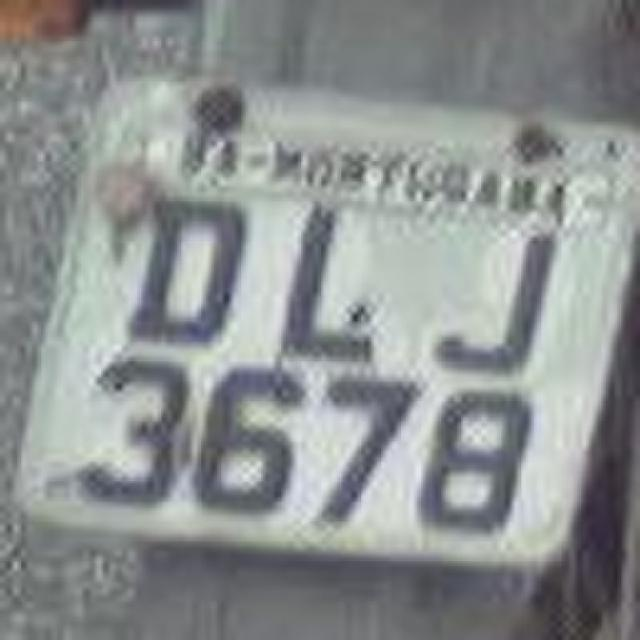3: (40, 344, 235, 536)
6: (168, 344, 352, 531)
7: (291, 344, 444, 528)
8: (412, 340, 556, 552)
J: (420, 188, 568, 368), (264, 188, 388, 384)
O: (108, 184, 252, 368)
